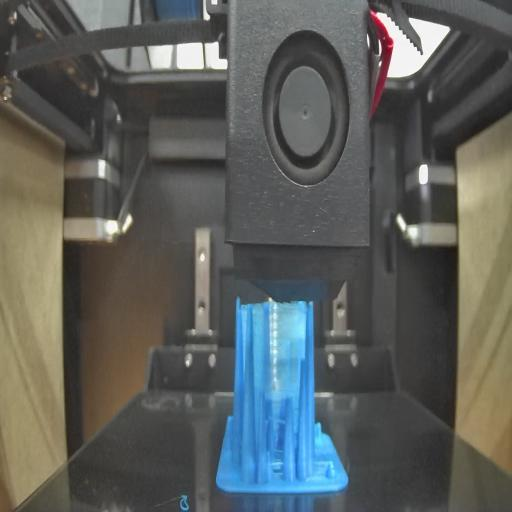stringing: (241, 301, 307, 405), (266, 414, 284, 484)
